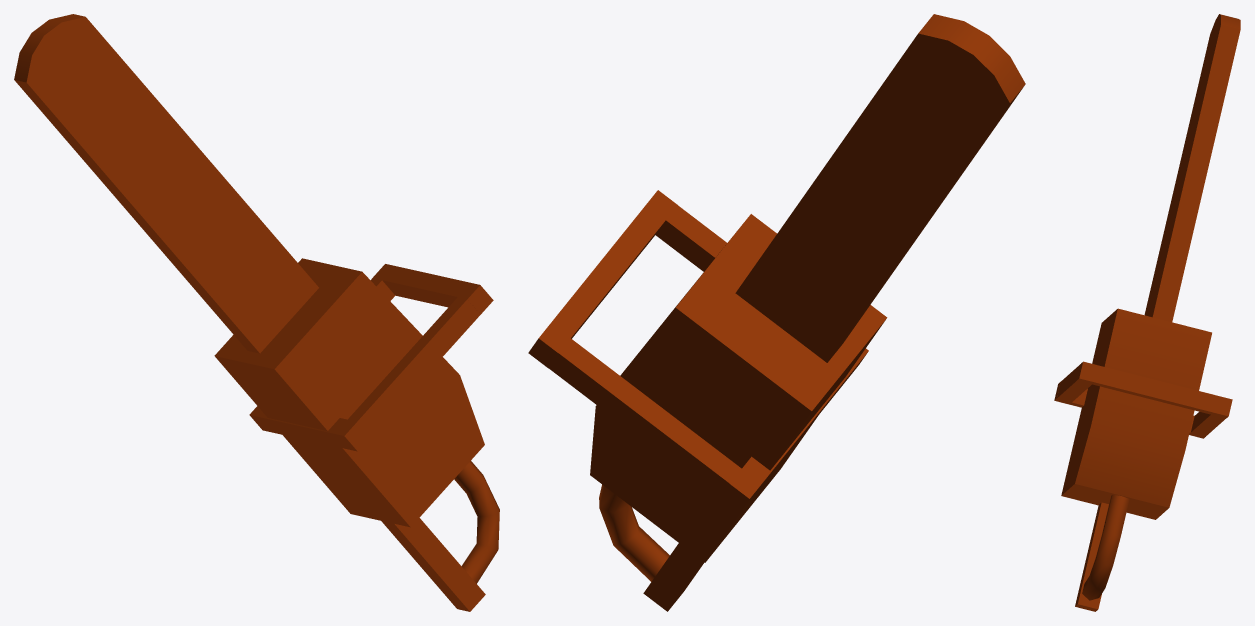
The model's file is Chainsaw_mesh.fbx.
3 views of the same model, side by side, from view 1: azimuth 30°, elevation 25°; view 2: azimuth 150°, elevation 25°; view 3: azimuth 270°, elevation 25° (orthographic). The views are drawn at different scales.
Visible parts, largest first — view 1: Chainsaw_mesh; view 2: Chainsaw_mesh; view 3: Chainsaw_mesh.
Boxes of the visible parts, x1=… form: Chainsaw_mesh: x1=14, y1=14, x2=499, y2=611; Chainsaw_mesh: x1=528, y1=14, x2=1025, y2=611; Chainsaw_mesh: x1=1054, y1=14, x2=1240, y2=611.
Size of the model in its own units: 59.18 by 84.24 by 29.92.
